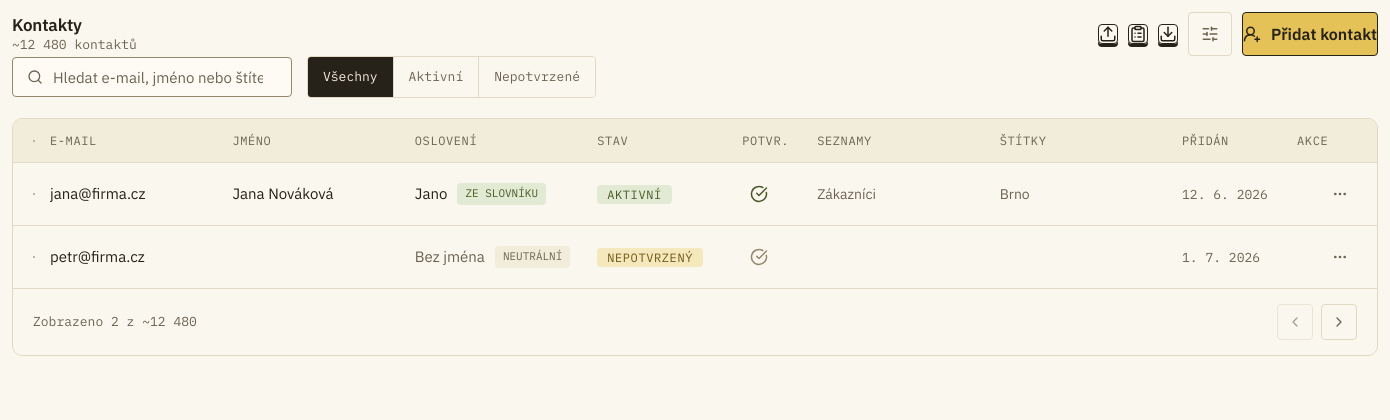
ContactsTable: nabídka akcí v řádku › nabídne čtyři akce z detailu a mazání odděluje
Click the button named "Další akce s kontaktem jana@firma.cz" at (1340, 194), box [1323,177,1357,211]
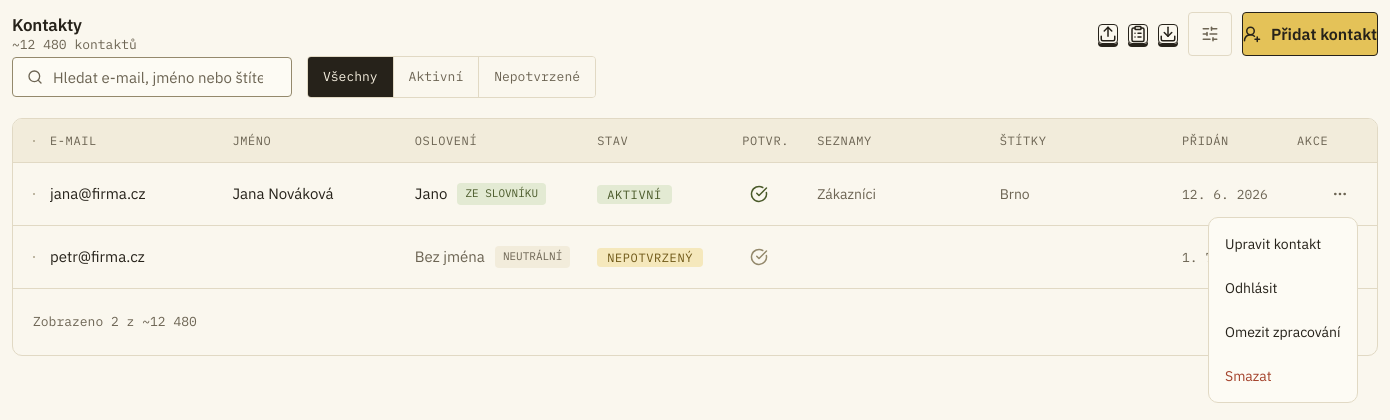
Now the menu item "Upravit kontakt" is shown, box [1225,235,1321,253]
Now the menu item "Odhlásit" is shown, box [1225,279,1278,297]
Now the menu item "Omezit zpracování" is shown, box [1225,323,1340,341]
